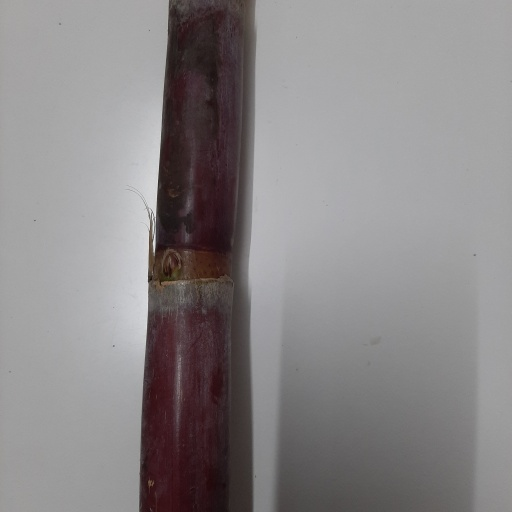Bud: (159, 251, 182, 277)
